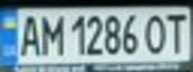1: (66, 11, 87, 56)
2: (84, 11, 106, 56)
6: (121, 11, 142, 56)
8: (103, 11, 124, 56)
A: (15, 11, 42, 57)
M: (36, 11, 66, 56)
O: (142, 10, 172, 55)
T: (160, 9, 190, 55)
